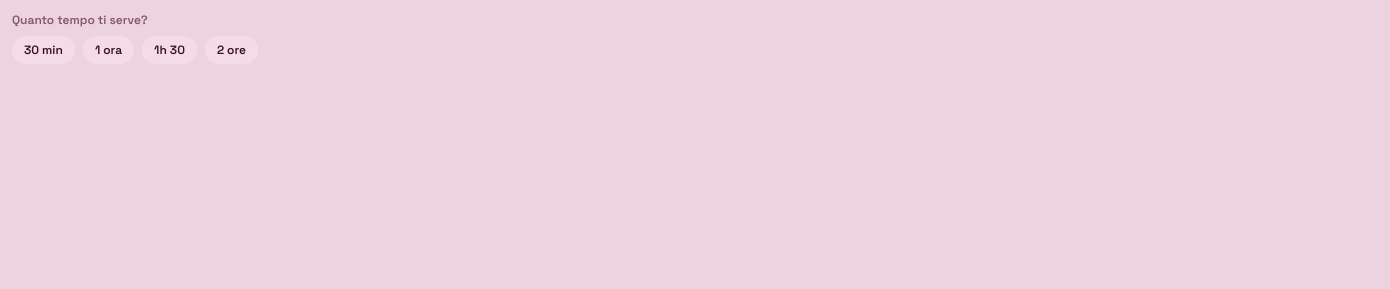
Test: SlotSuggestions — step 2: risultati › selezionando una durata interroga listCoupleEventsInRange con coupleId/from/daysAhead e mostra i risultati
Click the button "1 ora".
click(108, 50)  # box top-left (83, 36), bottom-right (134, 64)
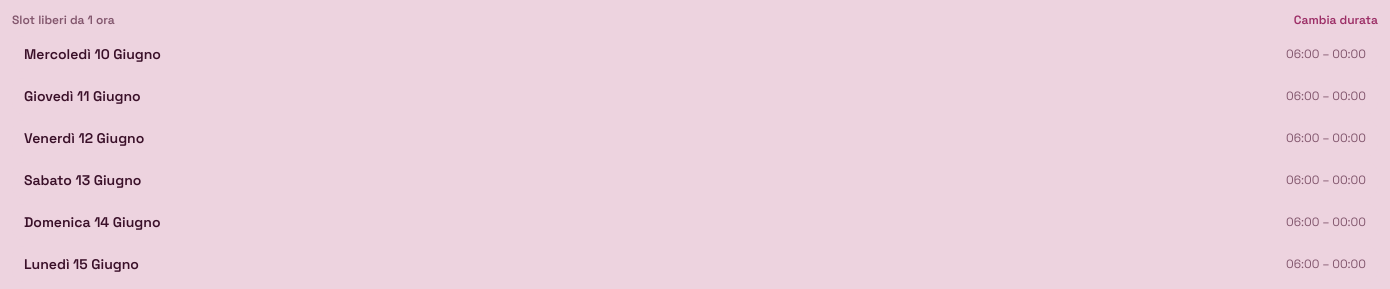
Check: the text "Slot liberi da 1 ora" is shown, box top-left (12, 12), bottom-right (115, 28)
Check: the text "06:00 – 00:00" is shown 14 times
